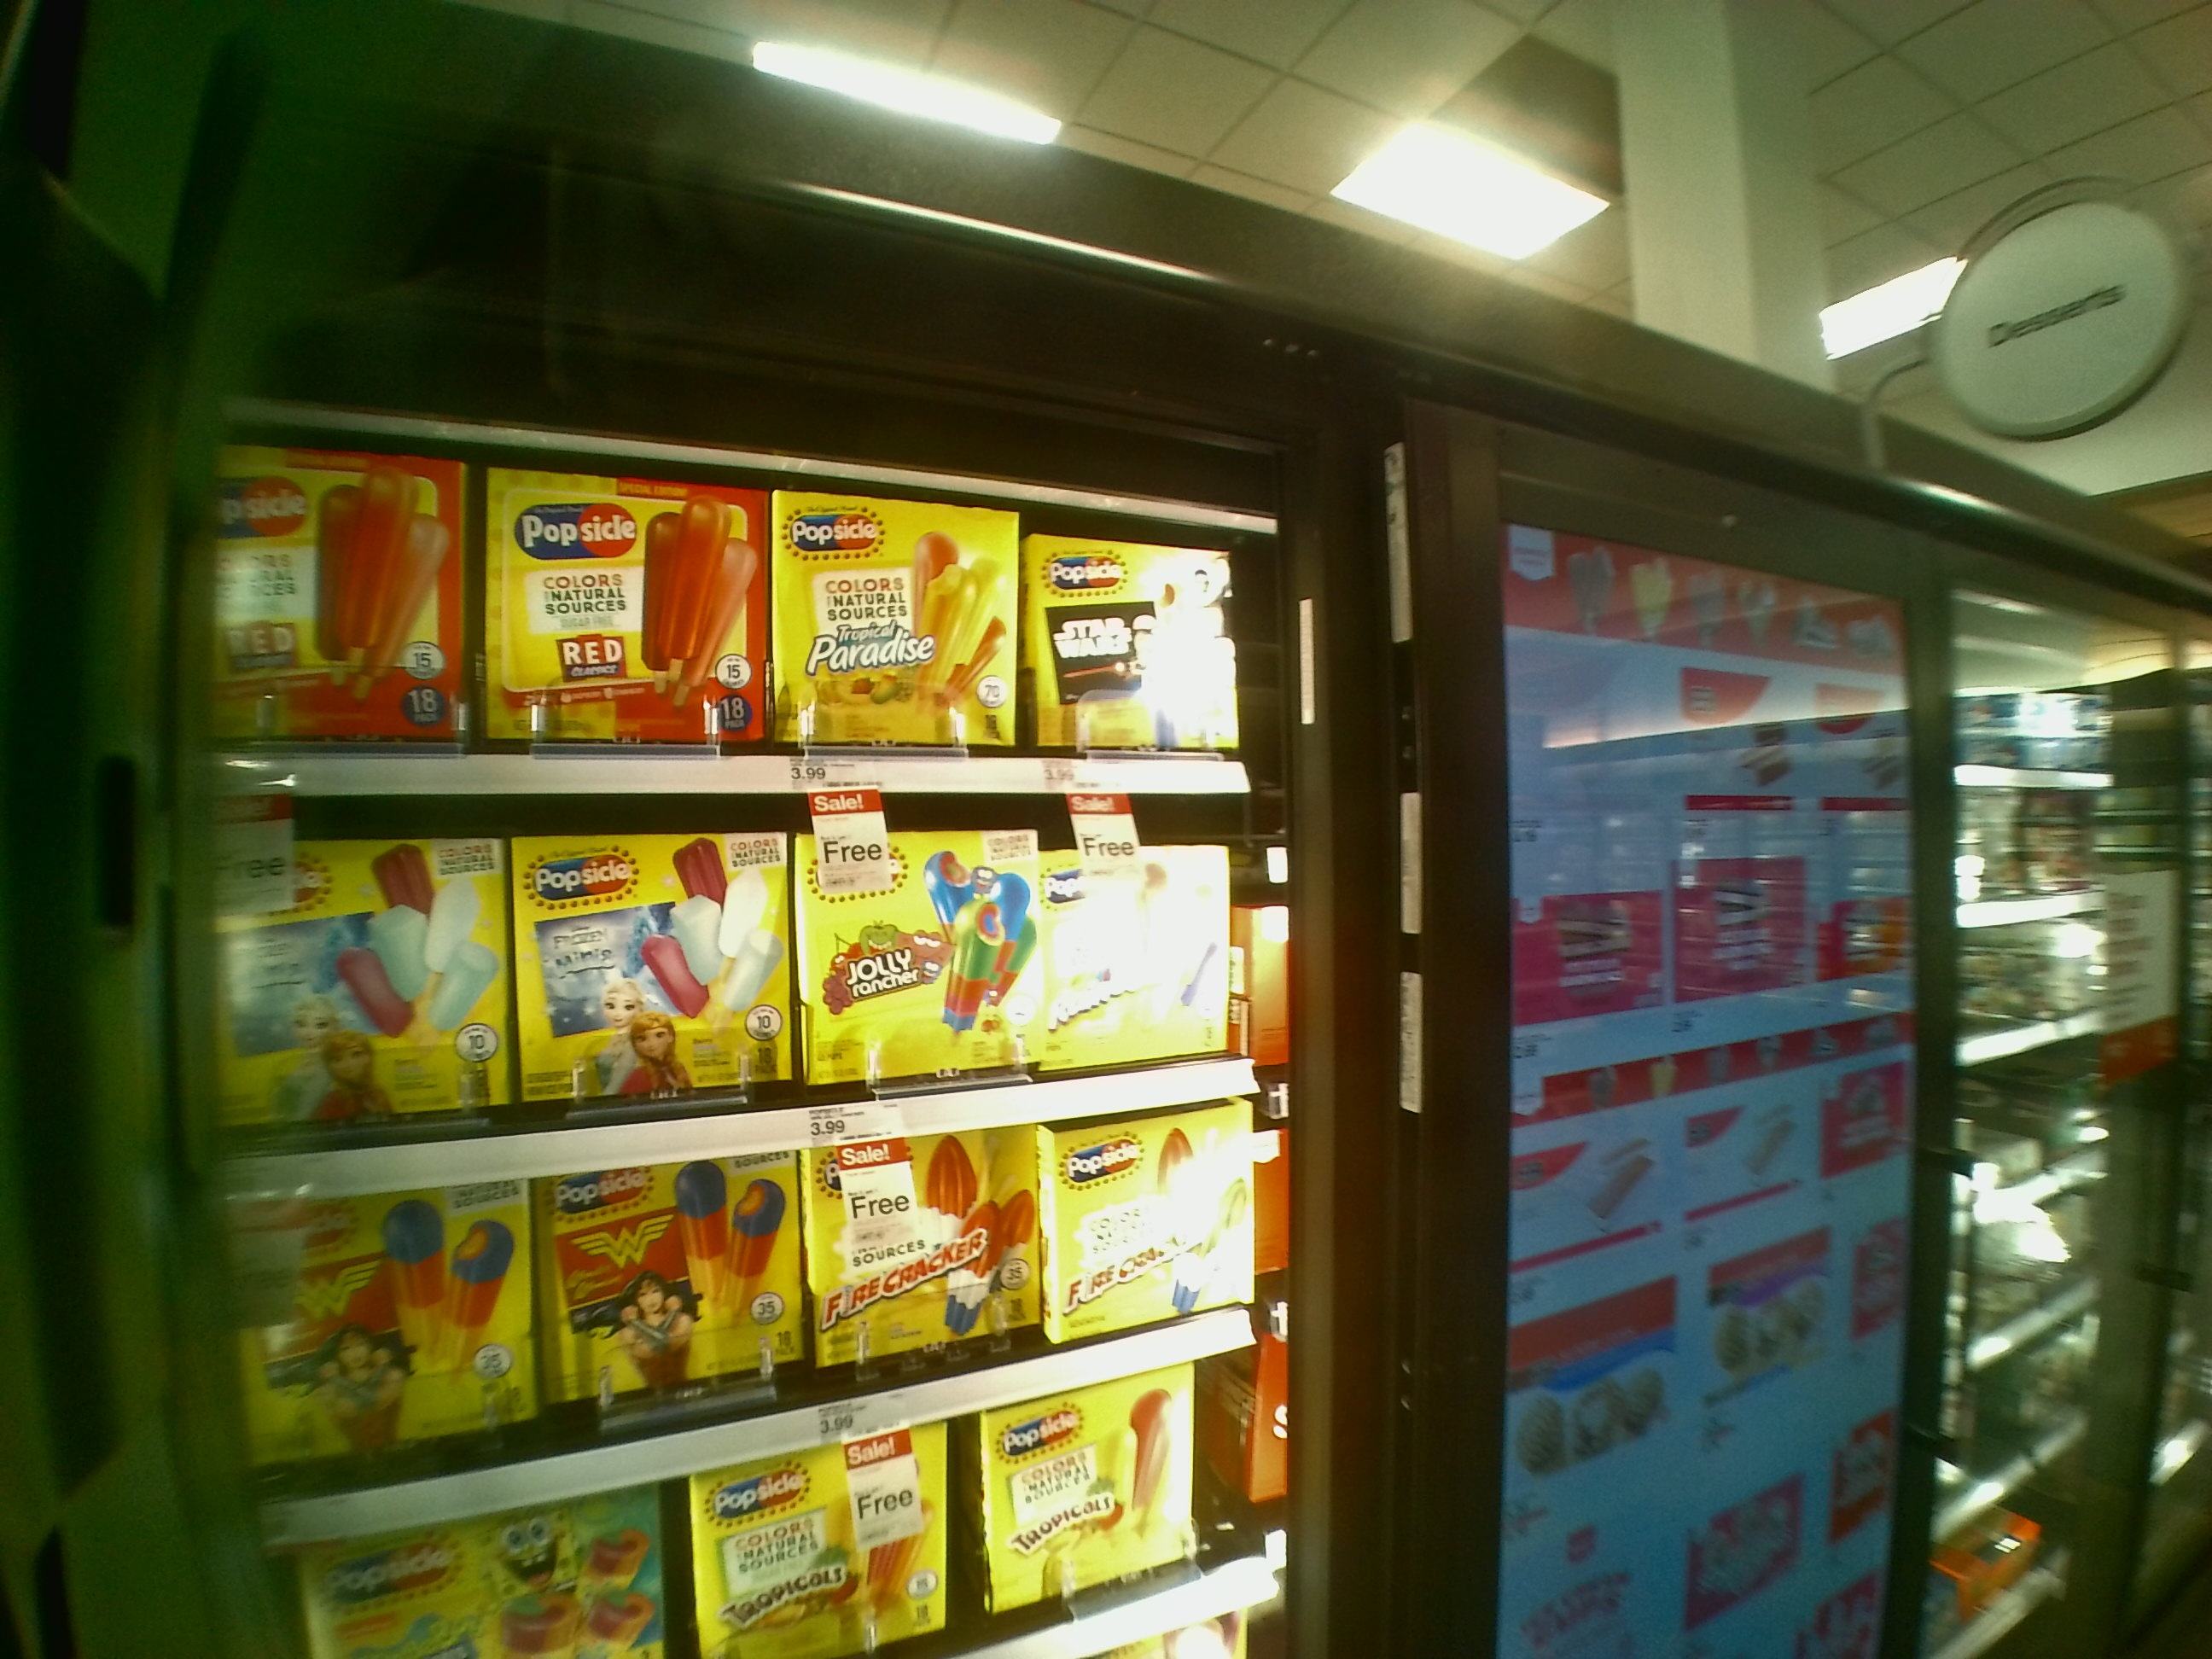shelf: (212, 427, 1254, 796), (209, 809, 1285, 1126), (240, 1126, 1299, 1445)
